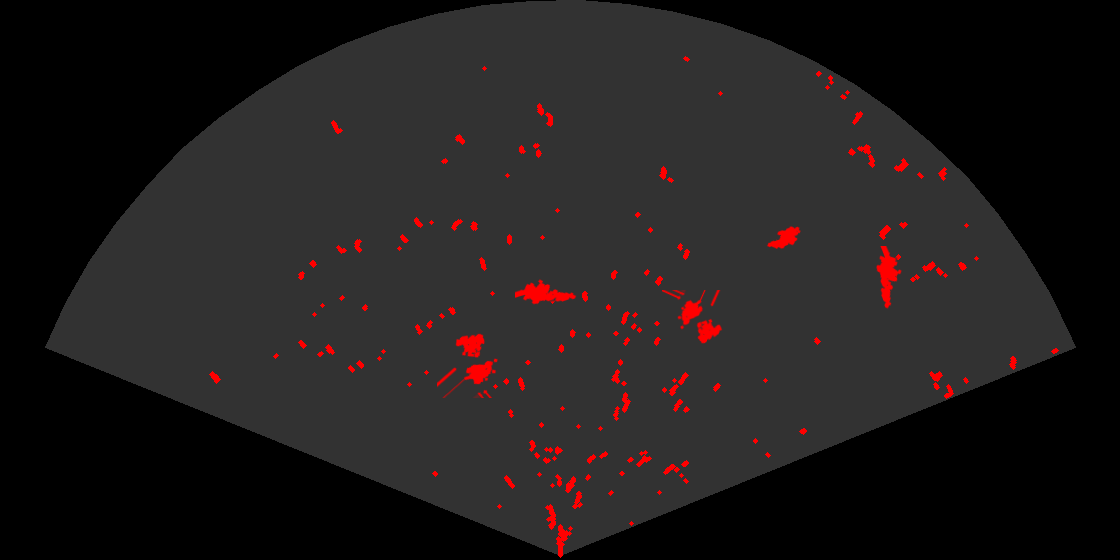AUV: (765, 224, 802, 251)
cage: (437, 332, 499, 398), (662, 290, 724, 345)
frogman: (875, 246, 903, 310), (515, 278, 577, 306)
